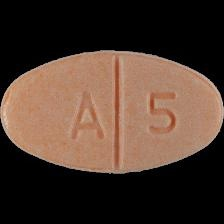65162-766: (0, 0, 224, 224)
